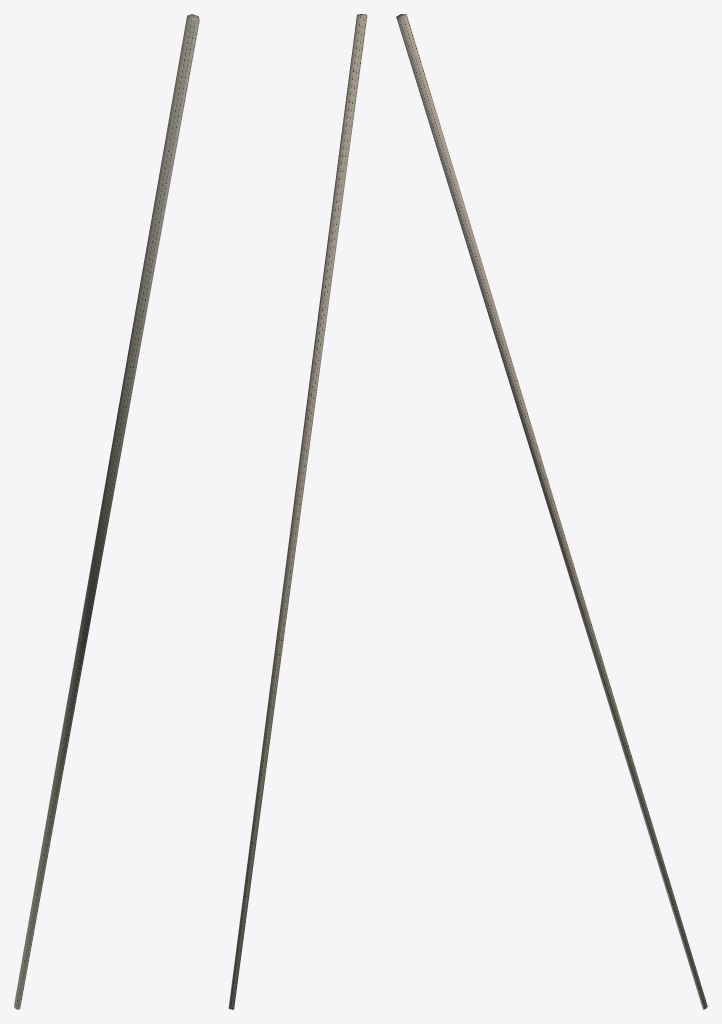
The model's file is sphere.020_lev3.glb.
3 renders of one model, left to right at view 1: azimuth 30°, elevation 25°; view 2: azimuth 150°, elevation 25°; view 3: azimuth 270°, elevation 25°, orthographic. The views are drawn at different scales.
Visible parts, largest first — view 1: sphere.020_lev3; view 2: sphere.020_lev3; view 3: sphere.020_lev3.
Boxes of the visible parts, left/top/right/bottom form: sphere.020_lev3: left=14, top=14, right=199, bottom=1009; sphere.020_lev3: left=228, top=14, right=367, bottom=1009; sphere.020_lev3: left=396, top=14, right=707, bottom=1009.
Size of the model in its own units: 0.0322 by 2.19 by 0.6217.
Materials: 1 (1 with a texture image).
